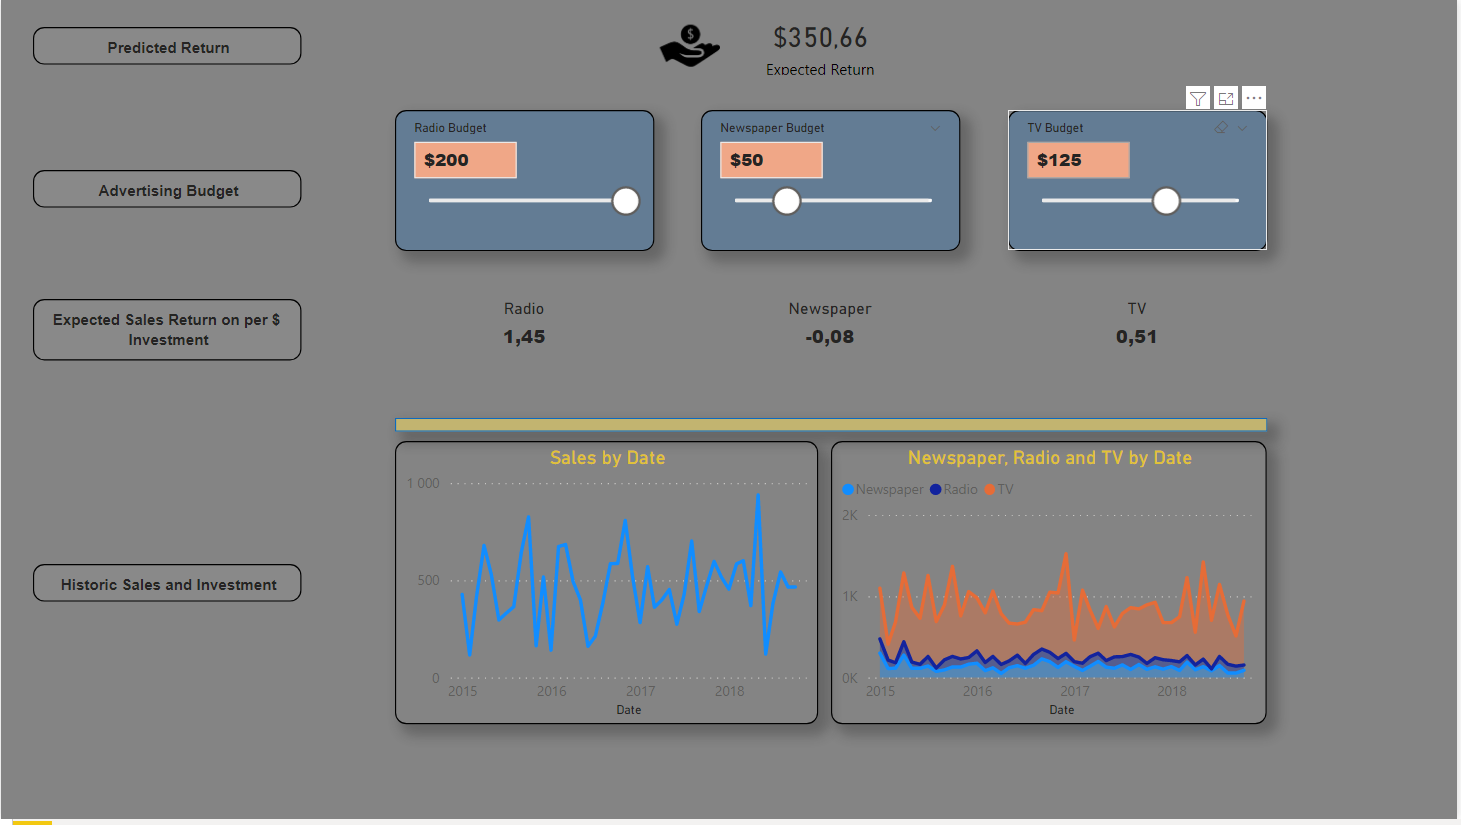

What the dashboard file says about the page in this screenshot:
{"tool":"powerbi","page":{"name":"Sales Forecasting","canvas":[1280,720],"ordinal":0},"visuals":[{"type":"slicer","fields":{"Values":["Newspaper Parameter.Newspaper Parameter"]},"box":[615.7,96.3,227.6,123.5],"z":0},{"type":"slicer","fields":{"Values":["TV Parameter.TV Parameter"]},"box":[885.1,96.3,227.6,123.5],"z":1000},{"type":"slicer","title":"cvc","fields":{"Values":["Radio Parameter.Radio Parameter"]},"box":[346.3,96.3,227.6,123.5],"z":2000},{"type":"shape","box":[346.4,367.5,766.6,12.3],"z":3000},{"type":"image","box":[574.1,9.7,63.3,60.7],"z":4000},{"type":"card","fields":{"Values":["Regression Elements.Expected Return"]},"box":[597.8,9.7,245.3,60.7],"z":5000},{"type":"textbox","box":[28.1,23.7,236.5,32.5],"z":6000},{"type":"textbox","box":[28.2,149.8,236.4,33],"z":7000},{"type":"card","title":"Radio","fields":{"Values":["Sum(Regression Elements.values)"]},"box":[390,262.6,139.1,54.5],"z":8000},{"type":"card","title":"Newspaper","fields":{"Values":["Sum(Regression Elements.values)"]},"box":[659.5,262.6,139.1,54.5],"z":9000},{"type":"card","title":"TV","fields":{"Values":["Sum(Regression Elements.values)"]},"box":[928.9,262.6,139.1,54.5],"z":10000},{"type":"textbox","box":[28.2,262.6,236.4,54.5],"z":11000},{"type":"textbox","box":[28.1,495.8,236.5,33.4],"z":12000},{"type":"lineChart","fields":{"Y":["Sum(Advertising data.Sales)"],"Category":["Advertising data.Date"]},"box":[346.4,387.7,371.9,248.8],"z":13000},{"type":"stackedAreaChart","fields":{"Y":["Sum(Advertising data.Newspaper)","Sum(Advertising data.Radio)","Sum(Advertising data.TV)"],"Category":["Advertising data.Date"]},"box":[729.7,387.7,383.3,248.8],"z":14000}]}

Visuals, with their boxes in screenshot pixels (x1, y1, x2, y2), scaled from the page's 1280x720 canvas onto the 1461x825 screenshot:
slicer - Newspaper Parameter.Newspaper Parameter: detection(703, 110, 963, 252)
slicer - TV Parameter.TV Parameter: detection(1010, 110, 1270, 252)
"cvc" slicer: detection(395, 110, 655, 252)
shape: detection(395, 421, 1270, 435)
image: detection(655, 11, 728, 81)
card - Regression Elements.Expected Return: detection(682, 11, 962, 81)
textbox: detection(32, 27, 302, 64)
textbox: detection(32, 172, 302, 209)
"Radio" card: detection(445, 301, 604, 363)
"Newspaper" card: detection(753, 301, 912, 363)
"TV" card: detection(1060, 301, 1219, 363)
textbox: detection(32, 301, 302, 363)
textbox: detection(32, 568, 302, 606)
lineChart - Sum(Advertising data.Sales) x Advertising data.Date: detection(395, 444, 820, 729)
stackedAreaChart - Sum(Advertising data.Newspaper) x Sum(Advertising data.Radio): detection(833, 444, 1270, 729)
